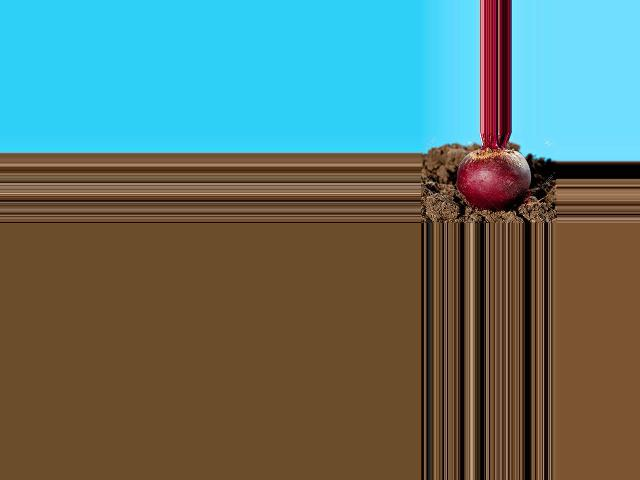beet: (457, 132, 531, 210)
